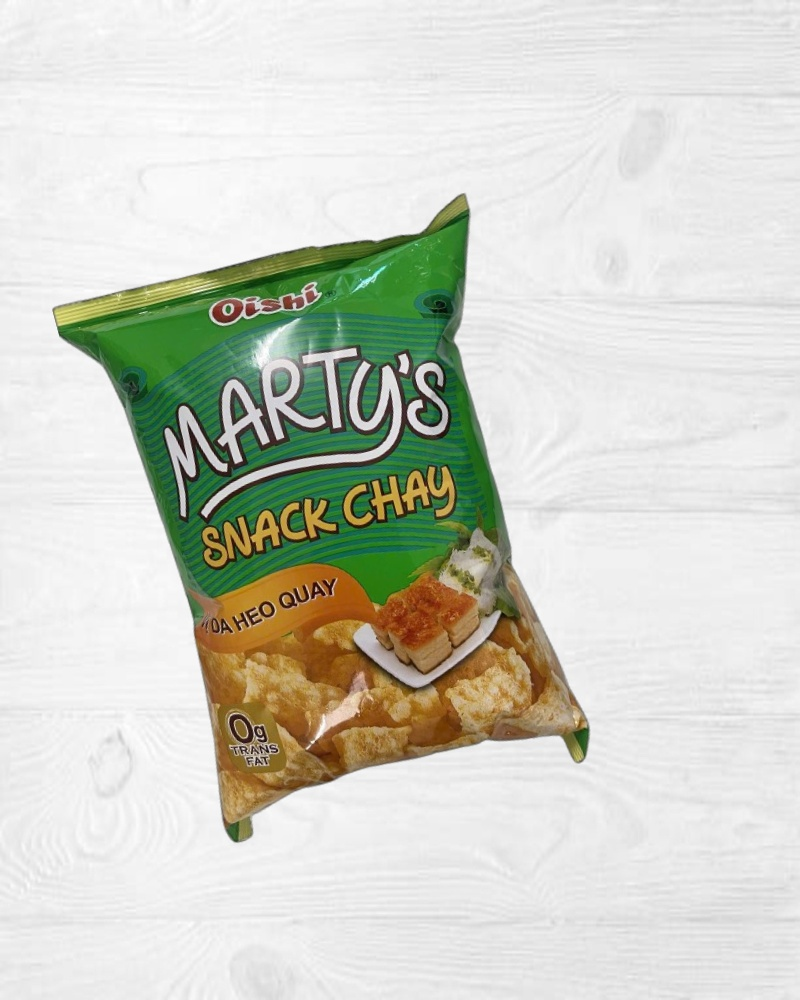Snack chay: (52, 193, 616, 864)
